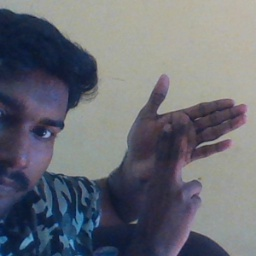N: (105, 70, 251, 219)
